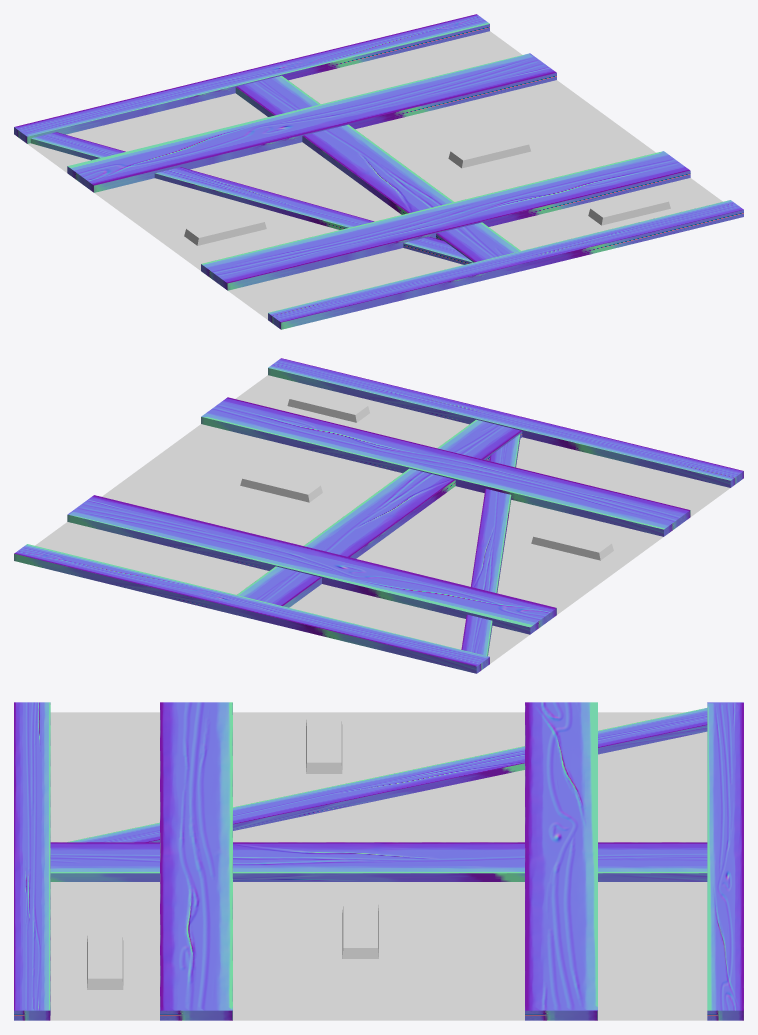
The model's file is SM_Wall_D.fbx.
3 renders of one model, top to bottom at view 1: azimuth 30°, elevation 25°; view 2: azimuth 150°, elevation 25°; view 3: azimuth 270°, elevation 25°, orthographic. The views are drawn at different scales.
Visible parts, largest first — view 1: SM_Wall_D; view 2: SM_Wall_D; view 3: SM_Wall_D.
Part boxes in pixels (x1,y1,x2,y2): SM_Wall_D: (14, 14, 743, 329); SM_Wall_D: (14, 358, 743, 673); SM_Wall_D: (14, 702, 743, 1020).
Bounding box in the file's own units: 200 × 3 × 200.
